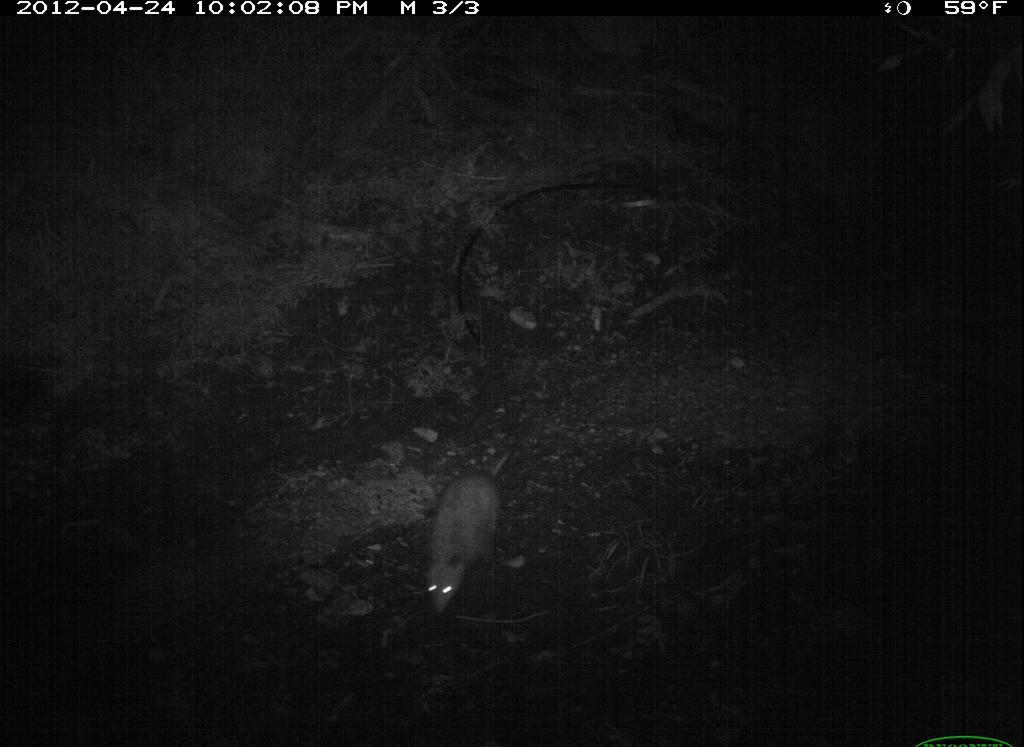opossum: (405, 438, 547, 625)
